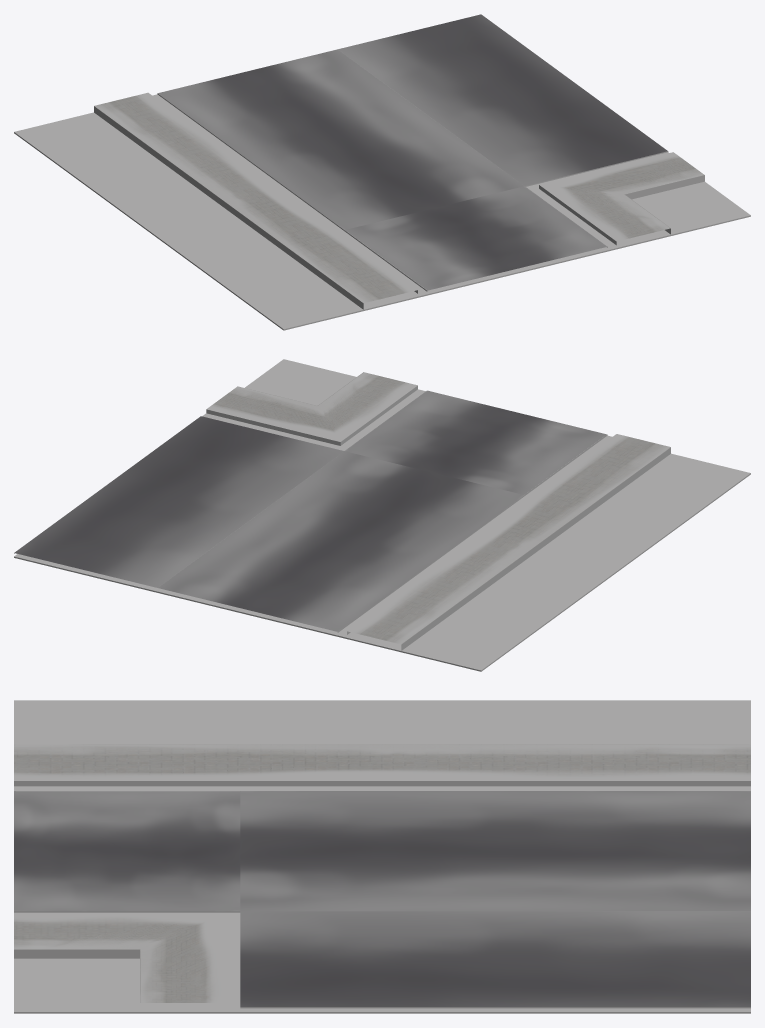
Rendered from Single_Entry_CarPark.fbx.
3 renders of one model, top to bottom at view 1: azimuth 30°, elevation 25°; view 2: azimuth 150°, elevation 25°; view 3: azimuth 270°, elevation 25°, orthographic. The views are drawn at different scales.
Visible parts, largest first — view 1: Road_10X48, Road_10X44; view 2: Road_10X48, Road_10X44; view 3: Road_10X48, Road_10X44.
Part boxes in pixels (x1,y1,x2,y2): Road_10X48: (94,14,704,309); Road_10X44: (14,112,750,330); Road_10X48: (14,372,670,650); Road_10X44: (14,359,750,671); Road_10X48: (14,744,750,1008); Road_10X44: (14,700,750,1013).
Bounding box in the file's own units: 1000 × 15.99 × 1000.
